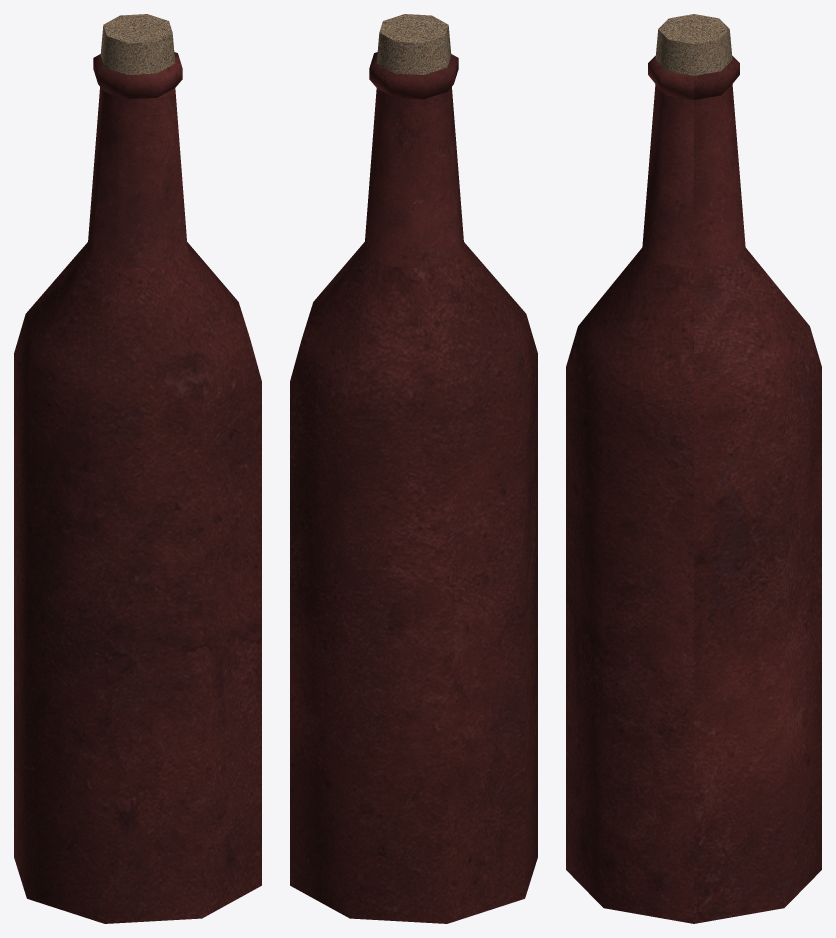
File: GlasflascheRot_Mesh.fbx
3 views of the same model, side by side, from view 1: azimuth 30°, elevation 25°; view 2: azimuth 150°, elevation 25°; view 3: azimuth 270°, elevation 25° (orthographic).
Visible parts, largest first — view 1: GlasflascheRot; view 2: GlasflascheRot; view 3: GlasflascheRot.
Boxes of the visible parts, bbox=[...] form: GlasflascheRot: bbox=[14, 14, 261, 923]; GlasflascheRot: bbox=[290, 14, 537, 923]; GlasflascheRot: bbox=[566, 14, 821, 923].
Bounding box in the file's own units: 8 × 29.01 × 8.
